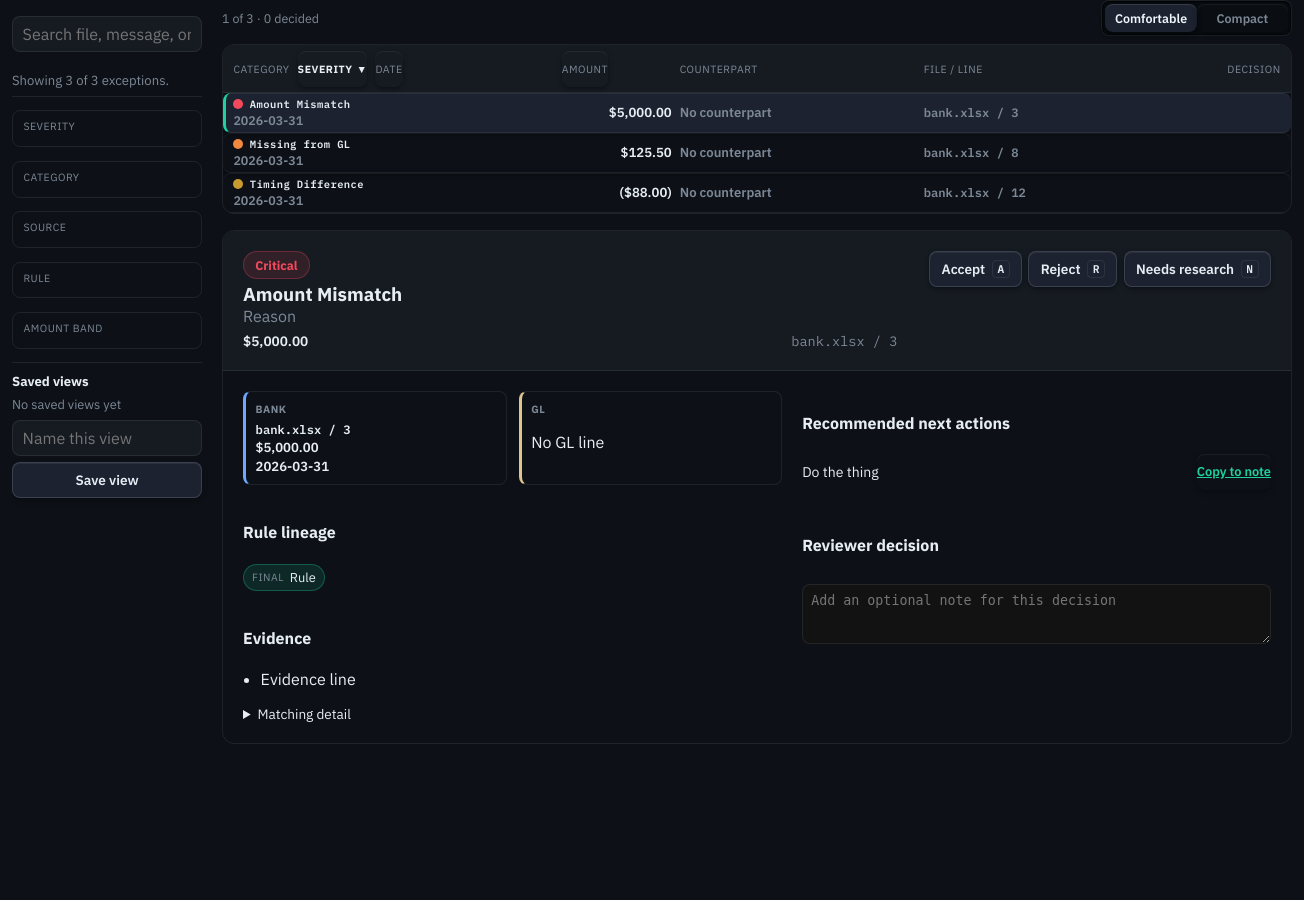
Test: ExceptionTriage › filters the list with the free-text search
Step 1. Type "BETA" into the field named "Search exceptions" → coordinates (107, 34), box [12,16,202,52]
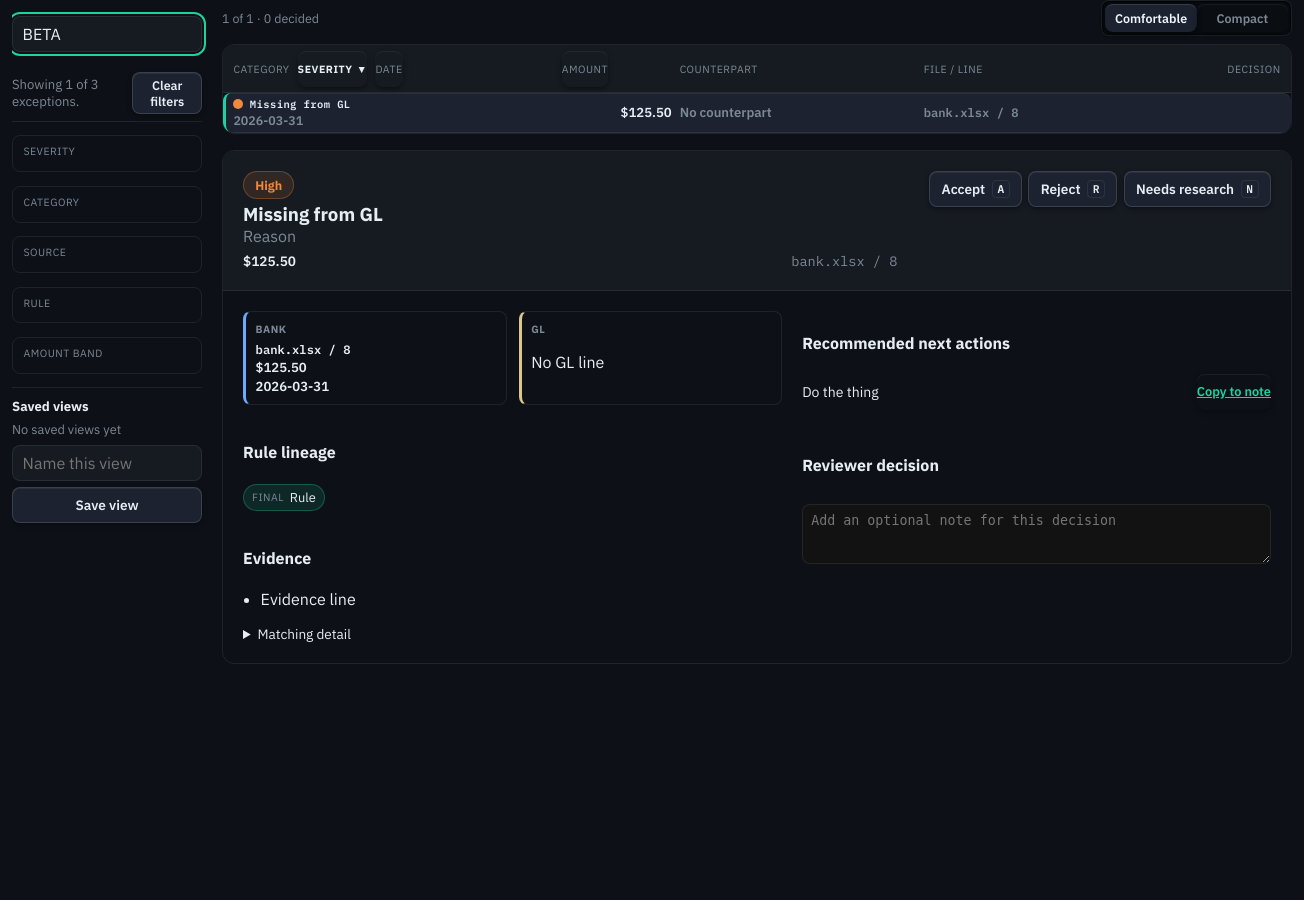
Result: the text "Showing 1 of 3 exceptions." is shown at [12,76,99,110]
